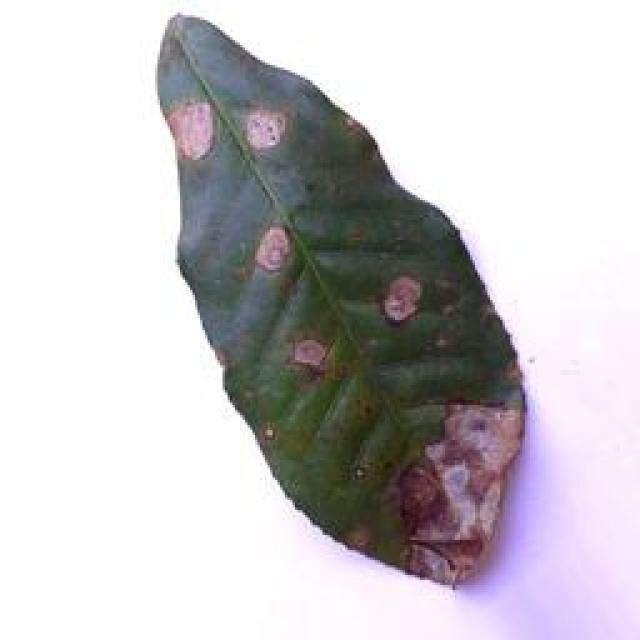Gray Blight: (147, 8, 527, 584)
